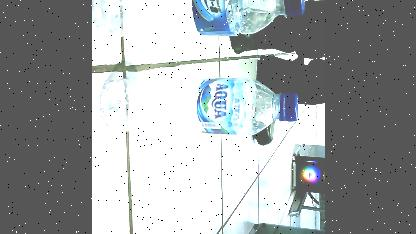Plastic Bottle: (94, 68, 298, 152), (91, 0, 307, 46)
